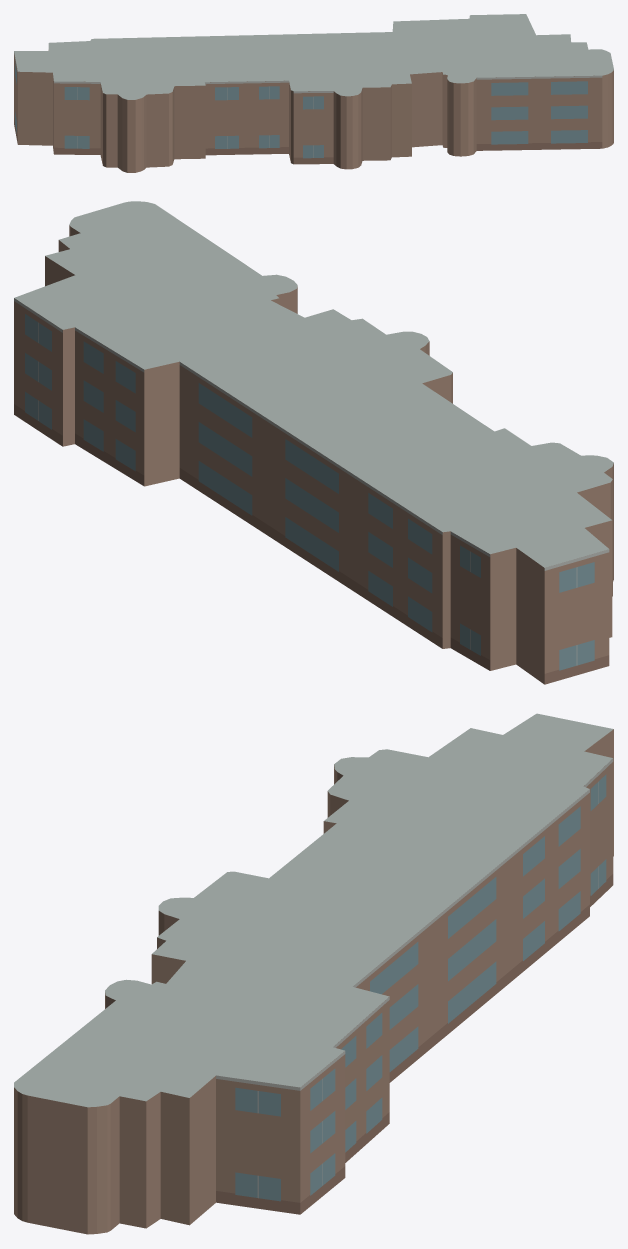
Rendered from survey-upis-32836501.glb.
3 views of the same model, one above another, from view 1: azimuth 30°, elevation 25°; view 2: azimuth 150°, elevation 25°; view 3: azimuth 270°, elevation 25° (orthographic). The views are drawn at different scales.
Visible parts, largest first — view 1: survey-upis-32836501.tmp; view 2: survey-upis-32836501.tmp; view 3: survey-upis-32836501.tmp.
Part boxes in pixels (bbox=[...]): survey-upis-32836501.tmp: bbox=[14, 14, 613, 172]; survey-upis-32836501.tmp: bbox=[14, 201, 613, 684]; survey-upis-32836501.tmp: bbox=[14, 713, 613, 1234].
Size of the model in its own units: 60.76 by 9.15 by 39.12.
